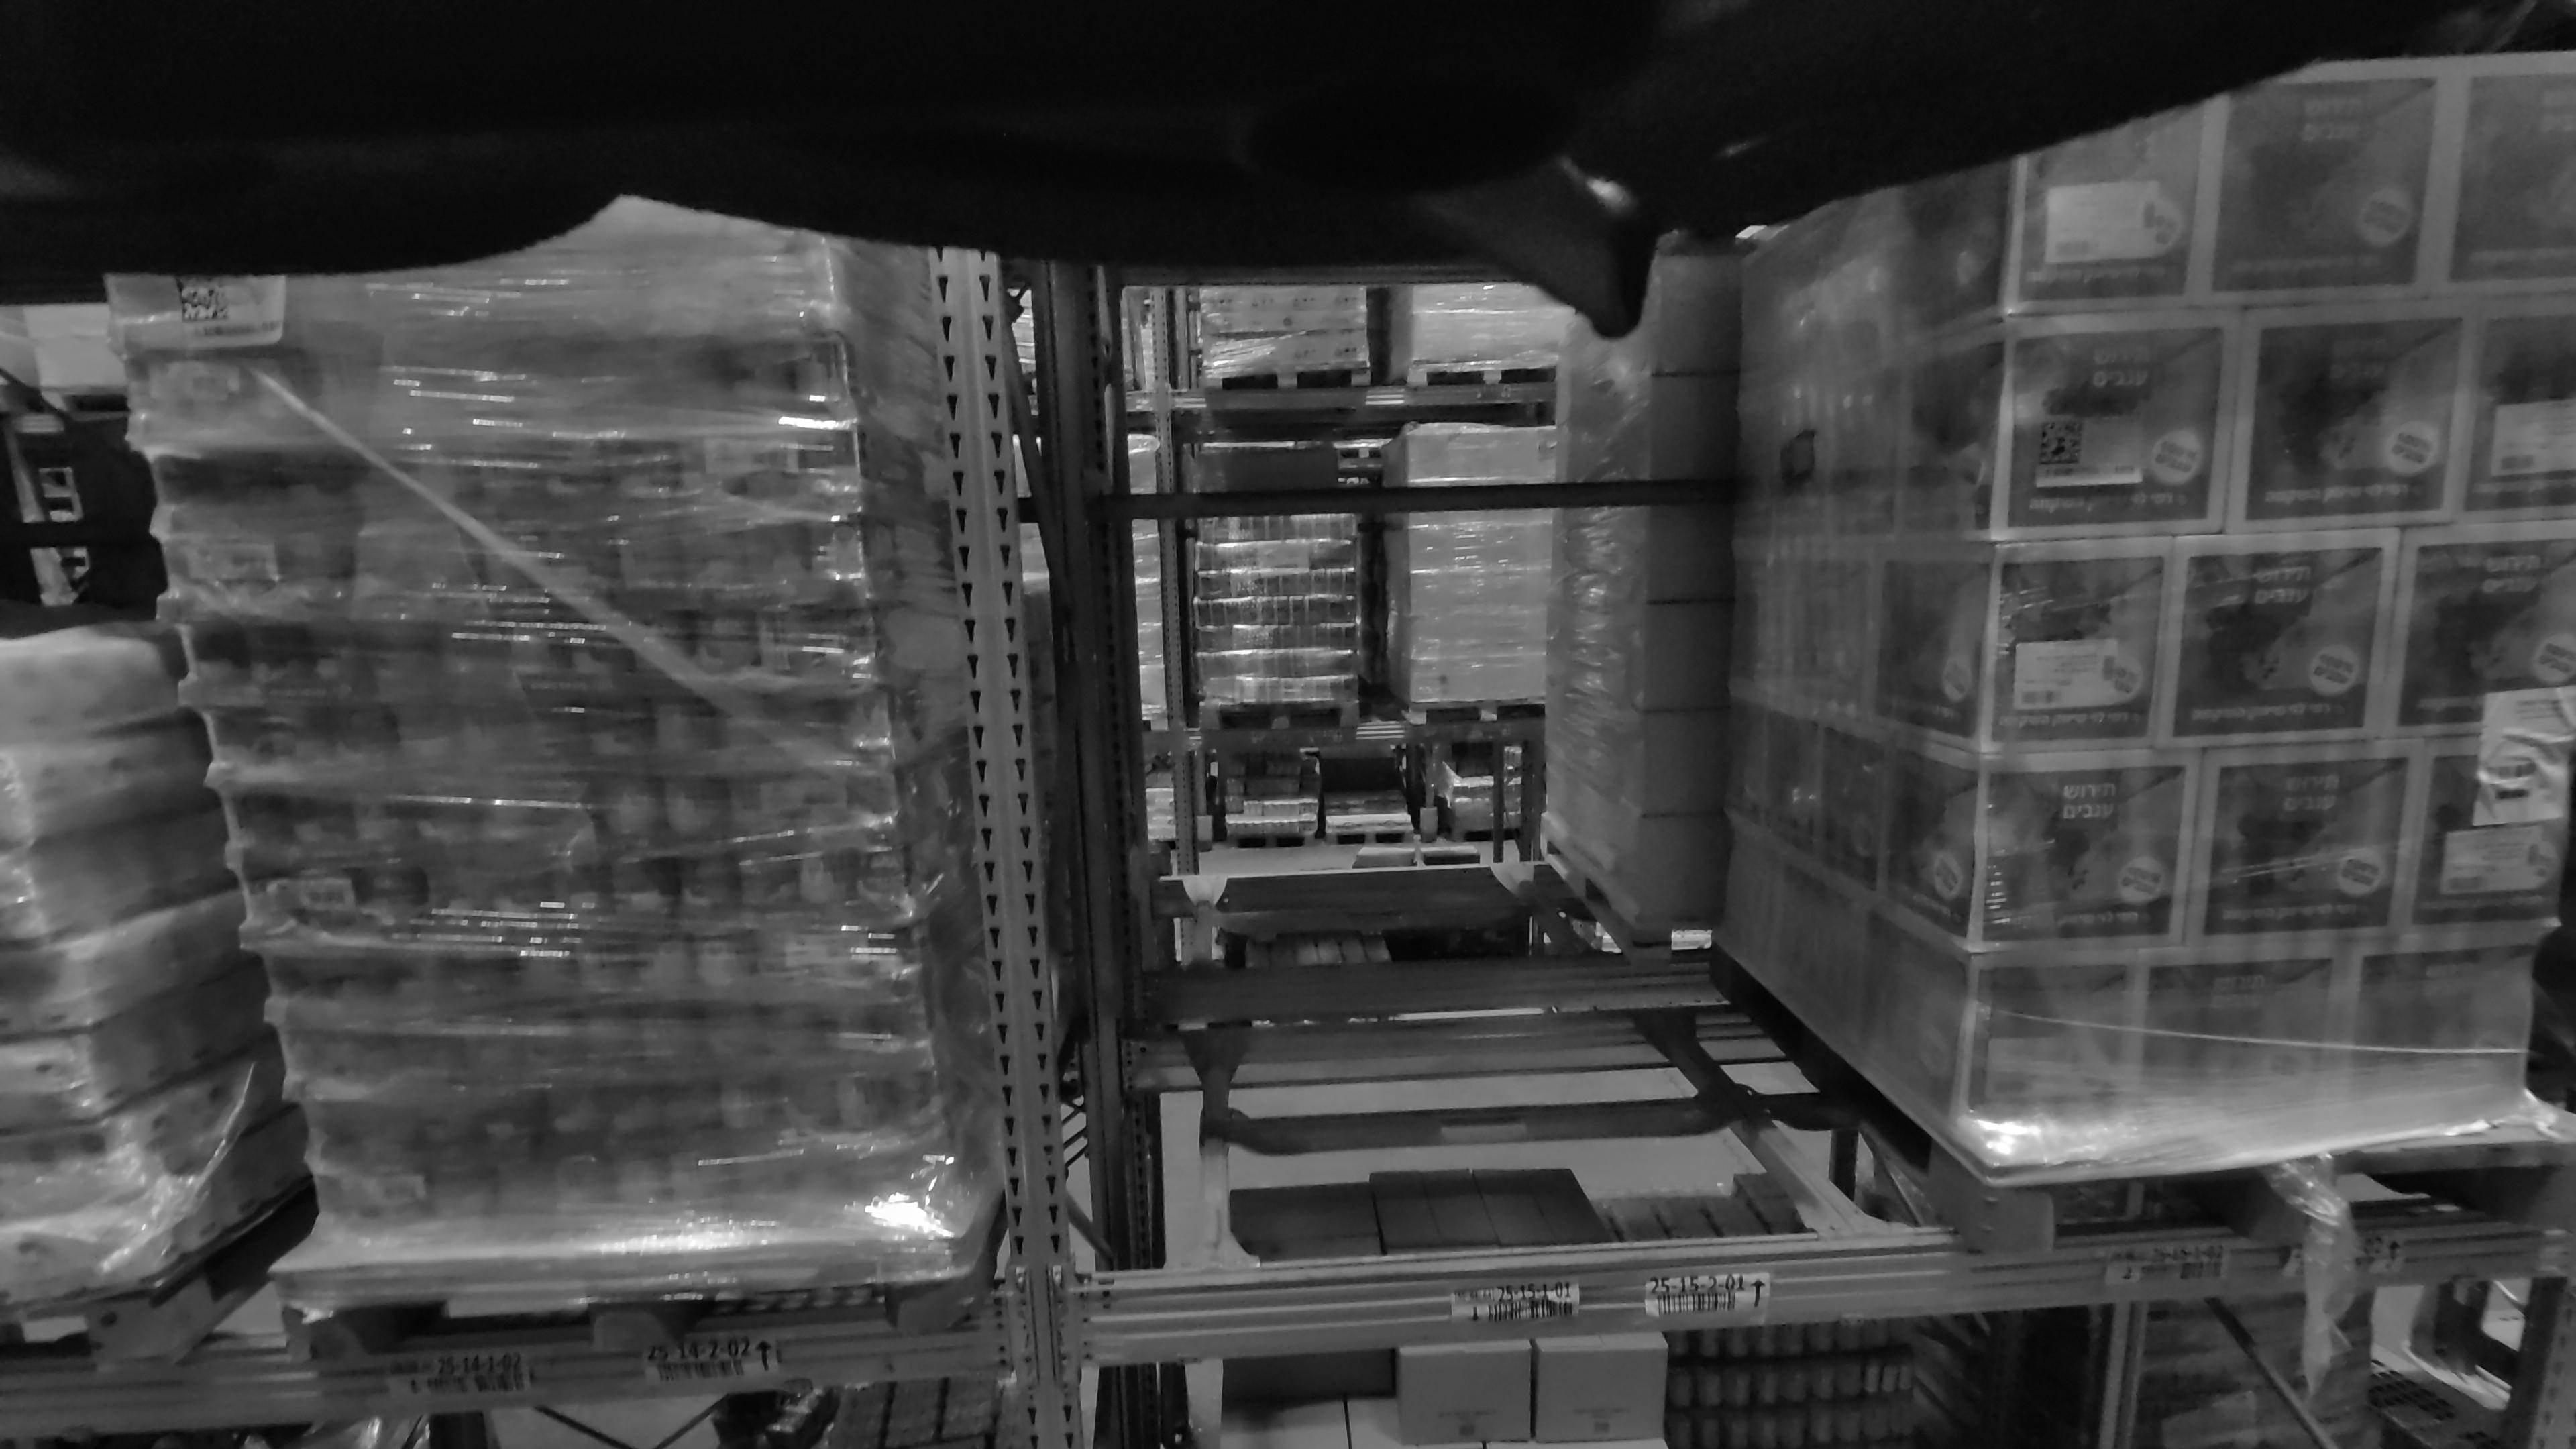empty-shelf: (1127, 223, 1833, 1248), (1156, 260, 1597, 961)
